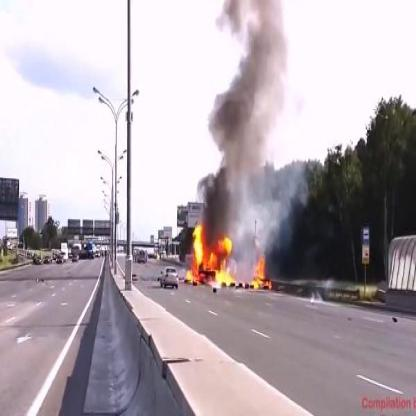fire: (185, 221, 237, 290), (250, 255, 272, 292)
